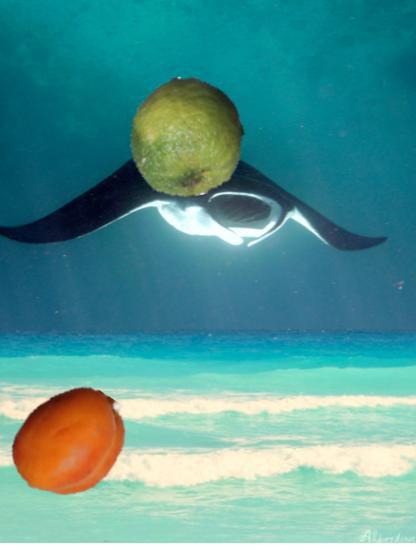Apricot: (10, 382, 130, 502)
Limes: (127, 77, 247, 197)
